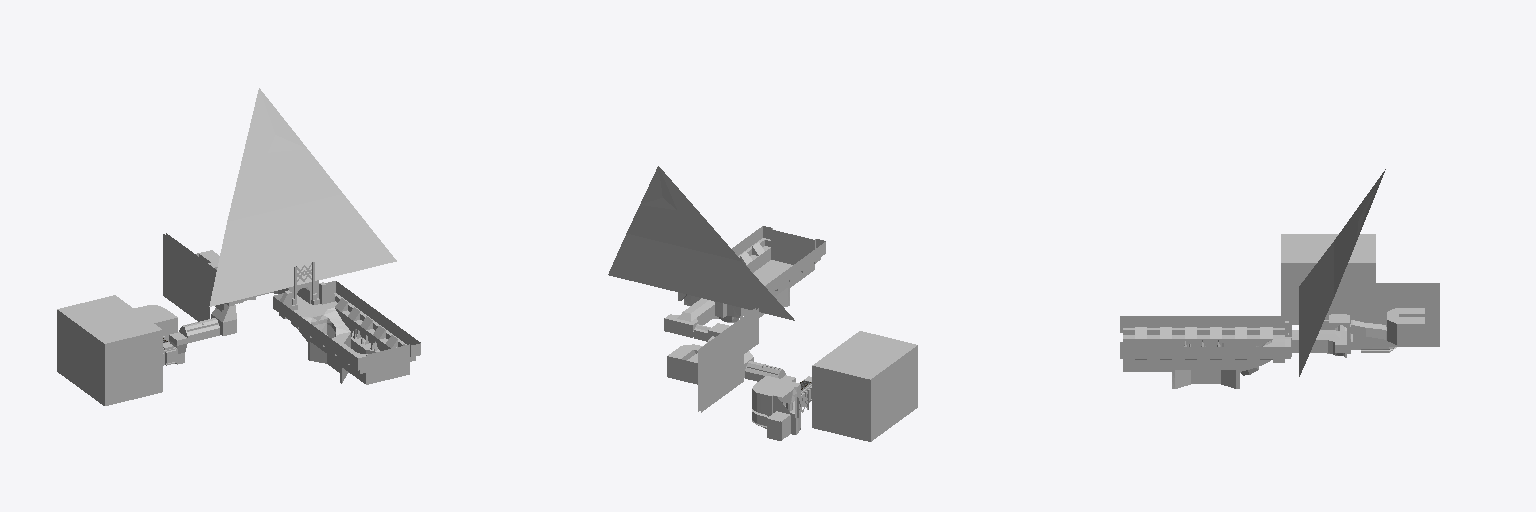
The picture shows the model from 3 angles: view 1: azimuth 30°, elevation 25°; view 2: azimuth 150°, elevation 25°; view 3: azimuth 270°, elevation 25°; orthographic projection.
Visible parts, largest first — view 1: pyramid, occluders, intro, big_area, explosive_tunnel, first_drop; view 2: occluders, pyramid, intro, big_area, hallway, enemy, explosive_tunnel; view 3: intro, occluders, pyramid, enemy, hallway.
Boxes of the visible parts, box(x1,y1,x2,y2) form: pyramid: box(209, 88, 396, 306); occluders: box(57, 233, 223, 405); intro: box(273, 262, 420, 384); big_area: box(134, 305, 177, 341); explosive_tunnel: box(180, 318, 219, 342); first_drop: box(211, 300, 238, 335); occluders: box(698, 308, 917, 441); pyramid: box(608, 166, 794, 320); intro: box(678, 226, 825, 322); big_area: box(752, 376, 808, 440); hallway: box(664, 298, 714, 337); enemy: box(667, 344, 702, 384); explosive_tunnel: box(745, 361, 784, 381); intro: box(1120, 302, 1291, 388); occluders: box(1281, 234, 1439, 346); pyramid: box(1299, 169, 1385, 376); enemy: box(1387, 308, 1424, 344); hallway: box(1292, 330, 1346, 357).
Bounding box in the file's own units: 18.48 × 13.56 × 17.03.
38 materials, 1 textured.